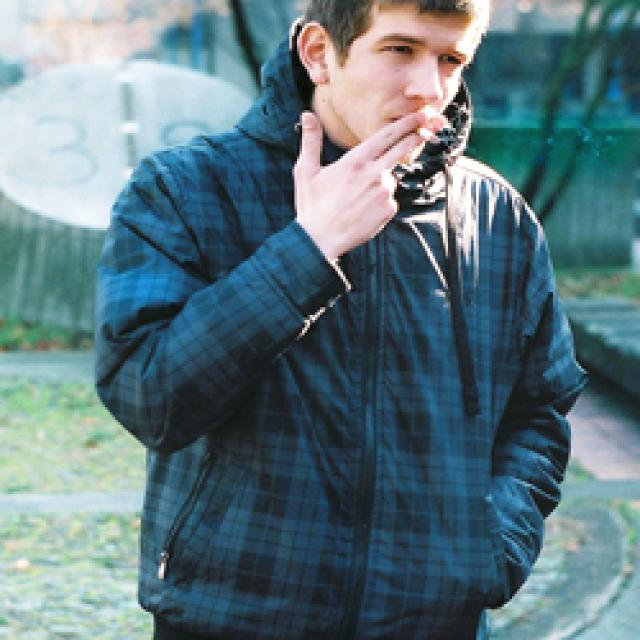Smooking: (407, 116, 449, 152)
